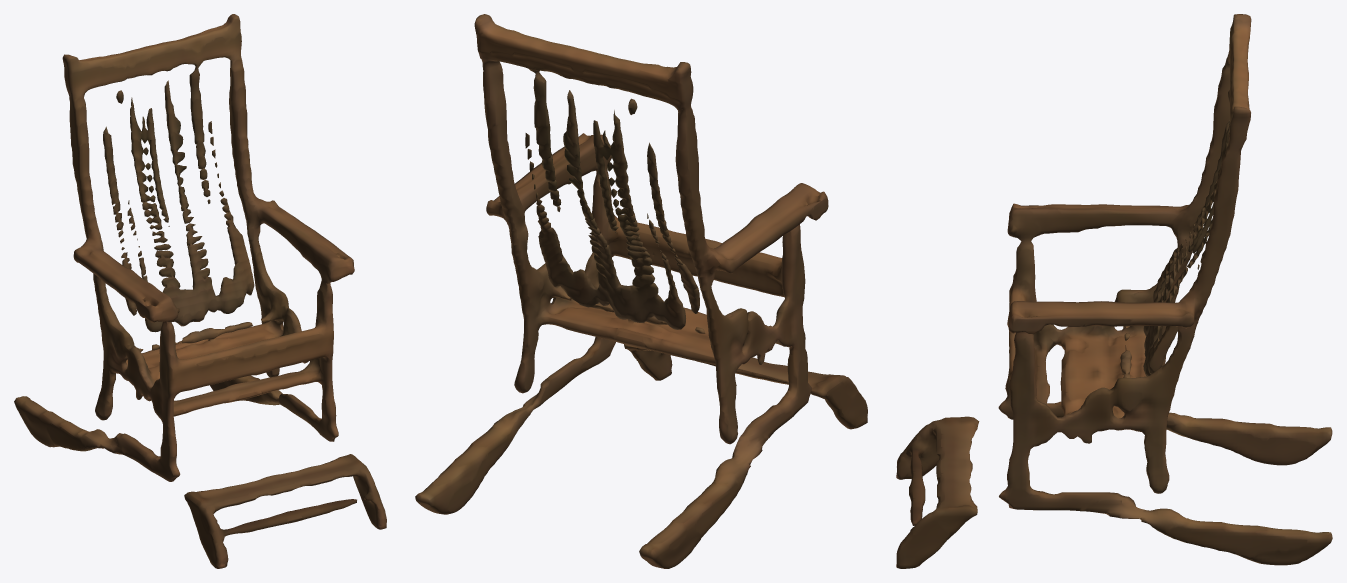
Rendered from A beige wooden rocking chair with a curved back an.glb.
3 views of the same model, side by side, from view 1: azimuth 30°, elevation 25°; view 2: azimuth 150°, elevation 25°; view 3: azimuth 270°, elevation 25° (orthographic). The views are drawn at different scales.
Parts seen in each view (by area): view 1: A beige wooden rocking chair with a curved back an; view 2: A beige wooden rocking chair with a curved back an; view 3: A beige wooden rocking chair with a curved back an.
Boxes of the visible parts, left/top/right/bottom form: A beige wooden rocking chair with a curved back an: left=14, top=14, right=386, bottom=568; A beige wooden rocking chair with a curved back an: left=415, top=14, right=867, bottom=568; A beige wooden rocking chair with a curved back an: left=896, top=14, right=1332, bottom=568.
Size of the model in its own units: 1.04 by 1.97 by 1.68.
